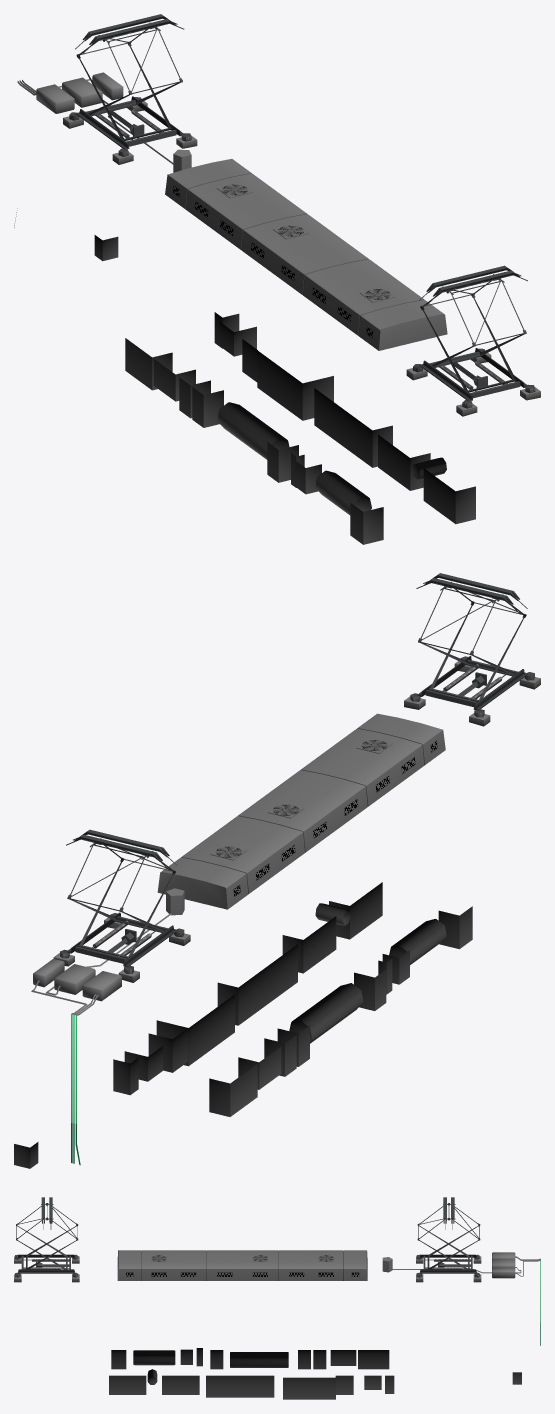
Rendered from 8000_PANTA00.glb.
3 views of the same model, one above another, from view 1: azimuth 30°, elevation 25°; view 2: azimuth 150°, elevation 25°; view 3: azimuth 270°, elevation 25° (orthographic). The views are drawn at different scales.
Visible parts, largest first — view 1: obj5; view 2: obj5; view 3: obj5.
Part boxes in pixels (bbox=[...]): obj5: bbox=[14, 14, 540, 544]; obj5: bbox=[14, 573, 540, 1168]; obj5: bbox=[14, 1197, 540, 1399].
Size of the model in its own units: 5.13 by 12.43 by 34.08.
7 materials, 7 textured.
